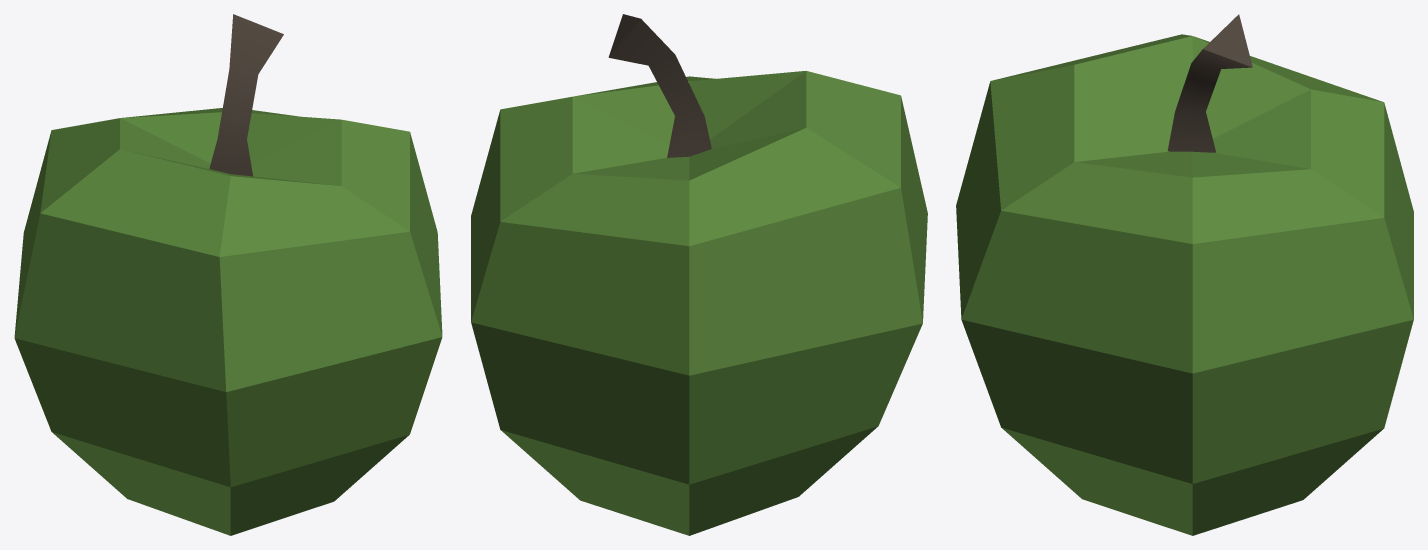
The model's file is SM_Prop_Food_Apple_01.fbx.
3 views of the same model, side by side, from view 1: azimuth 30°, elevation 25°; view 2: azimuth 150°, elevation 25°; view 3: azimuth 270°, elevation 25° (orthographic). The views are drawn at different scales.
Visible parts, largest first — view 1: SM_Prop_Food_Apple_01; view 2: SM_Prop_Food_Apple_01; view 3: SM_Prop_Food_Apple_01.
Boxes of the visible parts, bbox=[...] form: SM_Prop_Food_Apple_01: bbox=[14, 14, 442, 535]; SM_Prop_Food_Apple_01: bbox=[471, 14, 927, 535]; SM_Prop_Food_Apple_01: bbox=[956, 14, 1413, 535].
Bounding box in the file's own units: 15.19 × 15.33 × 13.23.
